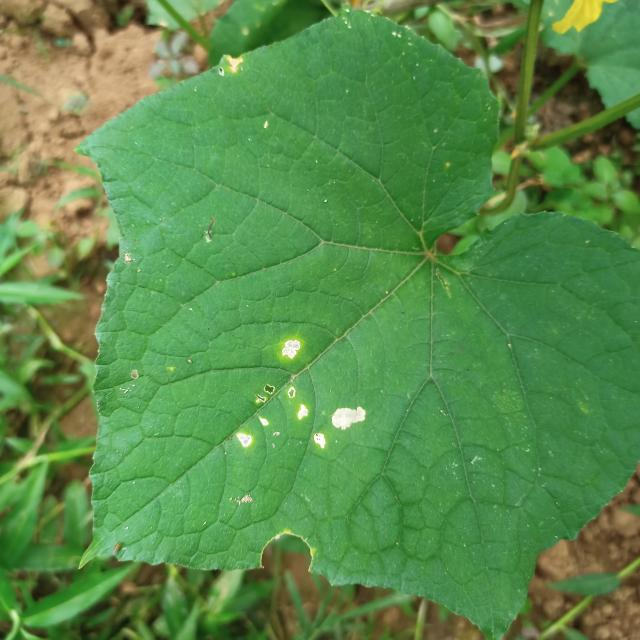disease_cucumber: (235, 339, 368, 451)
